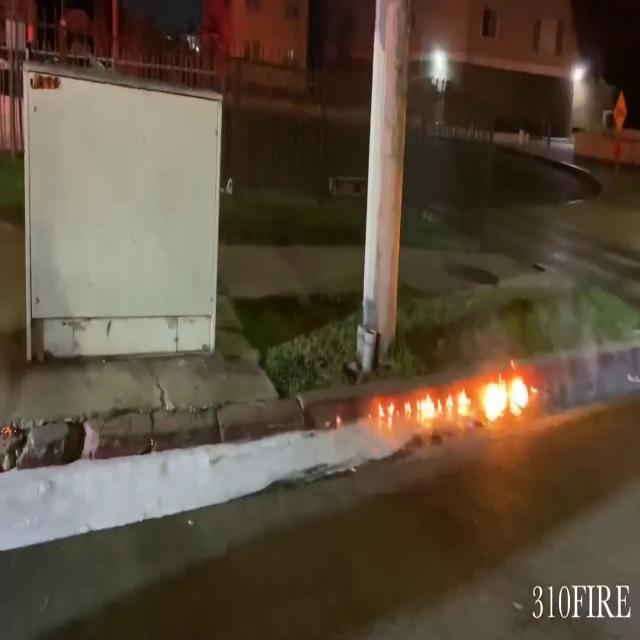Fire: (366, 361, 540, 431)
Smoke: (526, 260, 612, 406)
